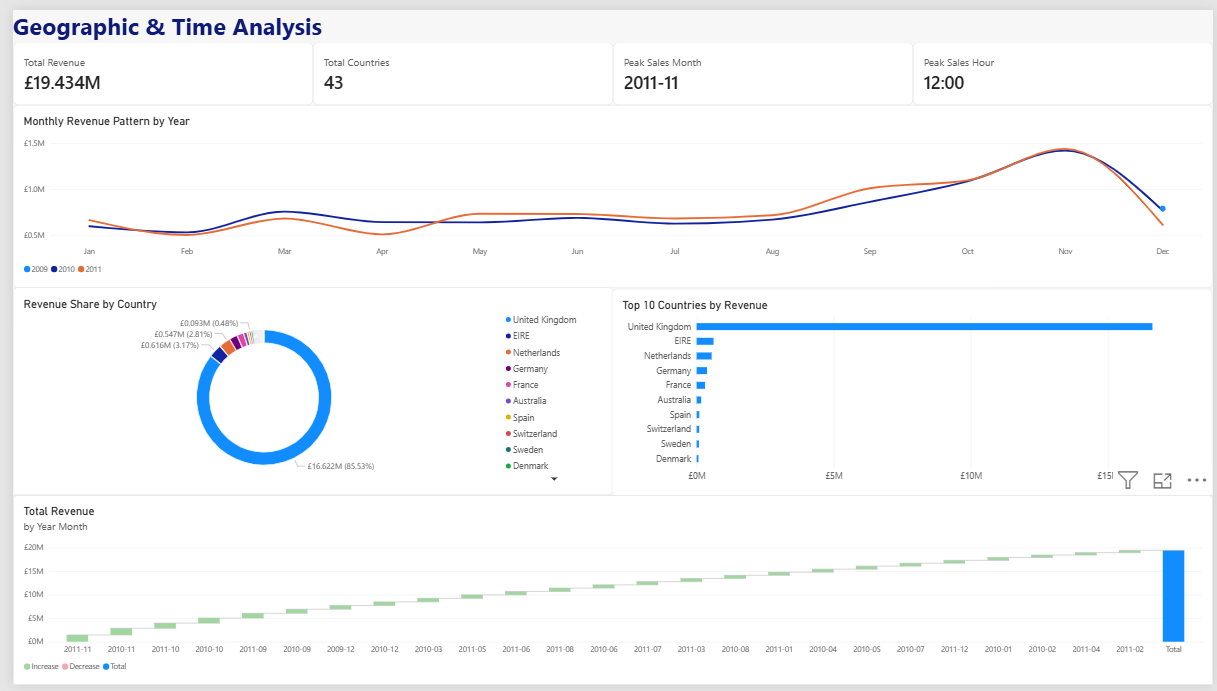

The dashboard page shown, as its layout file describes it:
{"tool":"powerbi","page":{"name":"Geographic & Time Analysis","canvas":[1920,1080],"ordinal":4},"visuals":[{"type":"cardVisual","fields":{"Data":["cleaned_sales.Total Revenue"]},"box":[0,52.2,480,100],"z":0},{"type":"textbox","box":[0,0,1919.3,50],"z":1000},{"type":"cardVisual","fields":{"Data":["Date.Total Countries"]},"box":[479.2,52.2,480,100],"z":2000},{"type":"cardVisual","fields":{"Data":["Date.Peak Sales Month"]},"box":[960.8,52.2,480,100],"z":3000},{"type":"cardVisual","fields":{"Data":["cleaned_sales.Peak Sales Hour"]},"box":[1440,52.2,480,100],"z":4000},{"type":"lineChart","title":"Monthly Revenue Pattern by Year","fields":{"Category":["Date.Month"],"Series":["Date.Year"],"Y":["cleaned_sales.Total Revenue"]},"box":[0,152.2,1919.3,293],"z":5000},{"type":"donutChart","title":"Revenue Share by Country","fields":{"Category":["cleaned_sales.country"],"Y":["cleaned_sales.Total Revenue"]},"box":[0,444.5,960.8,331.6],"z":6000},{"type":"clusteredBarChart","title":"Top 10 Countries by Revenue","fields":{"Category":["cleaned_sales.country"],"Y":["cleaned_sales.Total Revenue"]},"box":[958.5,445.2,960.8,331.6],"z":7000},{"type":"waterfallChart","fields":{"Category":["Date.Year Month"],"Y":["cleaned_sales.Total Revenue"]},"box":[0,775,1920,305],"z":8001}]}

Visuals, with their boxes in screenshot pixels (x1, y1, x2, y2), scaled from the page's 1920x1080 canvas onto the 1217x691 screenshot:
cardVisual - cleaned_sales.Total Revenue: pyautogui.locateOnScreen(0, 33, 304, 97)
textbox: pyautogui.locateOnScreen(0, 0, 1216, 32)
cardVisual - Date.Total Countries: pyautogui.locateOnScreen(304, 33, 608, 97)
cardVisual - Date.Peak Sales Month: pyautogui.locateOnScreen(609, 33, 913, 97)
cardVisual - cleaned_sales.Peak Sales Hour: pyautogui.locateOnScreen(913, 33, 1216, 97)
"Monthly Revenue Pattern by Year" lineChart: pyautogui.locateOnScreen(0, 97, 1216, 285)
"Revenue Share by Country" donutChart: pyautogui.locateOnScreen(0, 284, 609, 497)
"Top 10 Countries by Revenue" clusteredBarChart: pyautogui.locateOnScreen(608, 285, 1216, 497)
waterfallChart - Date.Year Month x cleaned_sales.Total Revenue: pyautogui.locateOnScreen(0, 496, 1216, 690)
